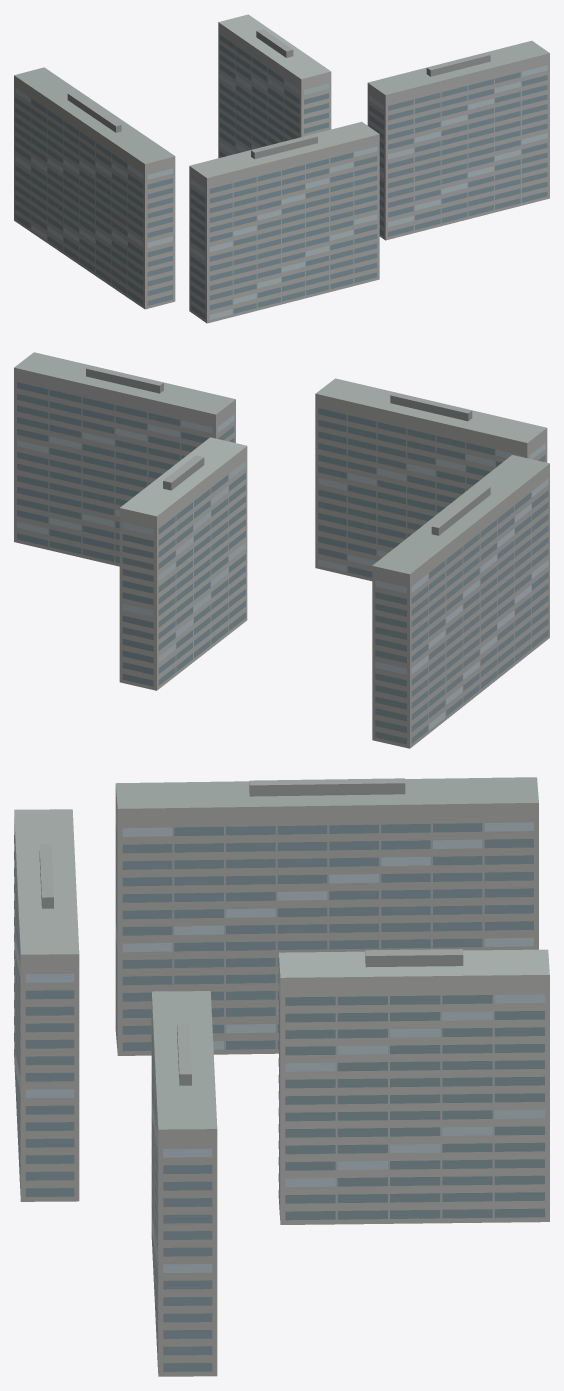
The model's file is apt-a13880701.glb.
The picture shows the model from 3 angles, top to bottom: view 1: azimuth 30°, elevation 25°; view 2: azimuth 150°, elevation 25°; view 3: azimuth 270°, elevation 25°; orthographic projection. The views are drawn at different scales.
Visible parts, largest first — view 1: apt-a13880701; view 2: apt-a13880701; view 3: apt-a13880701.
Part boxes in pixels (bbox=[...]): apt-a13880701: bbox=[14, 14, 549, 323]; apt-a13880701: bbox=[14, 352, 549, 748]; apt-a13880701: bbox=[14, 777, 549, 1376].
Size of the model in its own units: 140 by 47.81 by 89.9.
